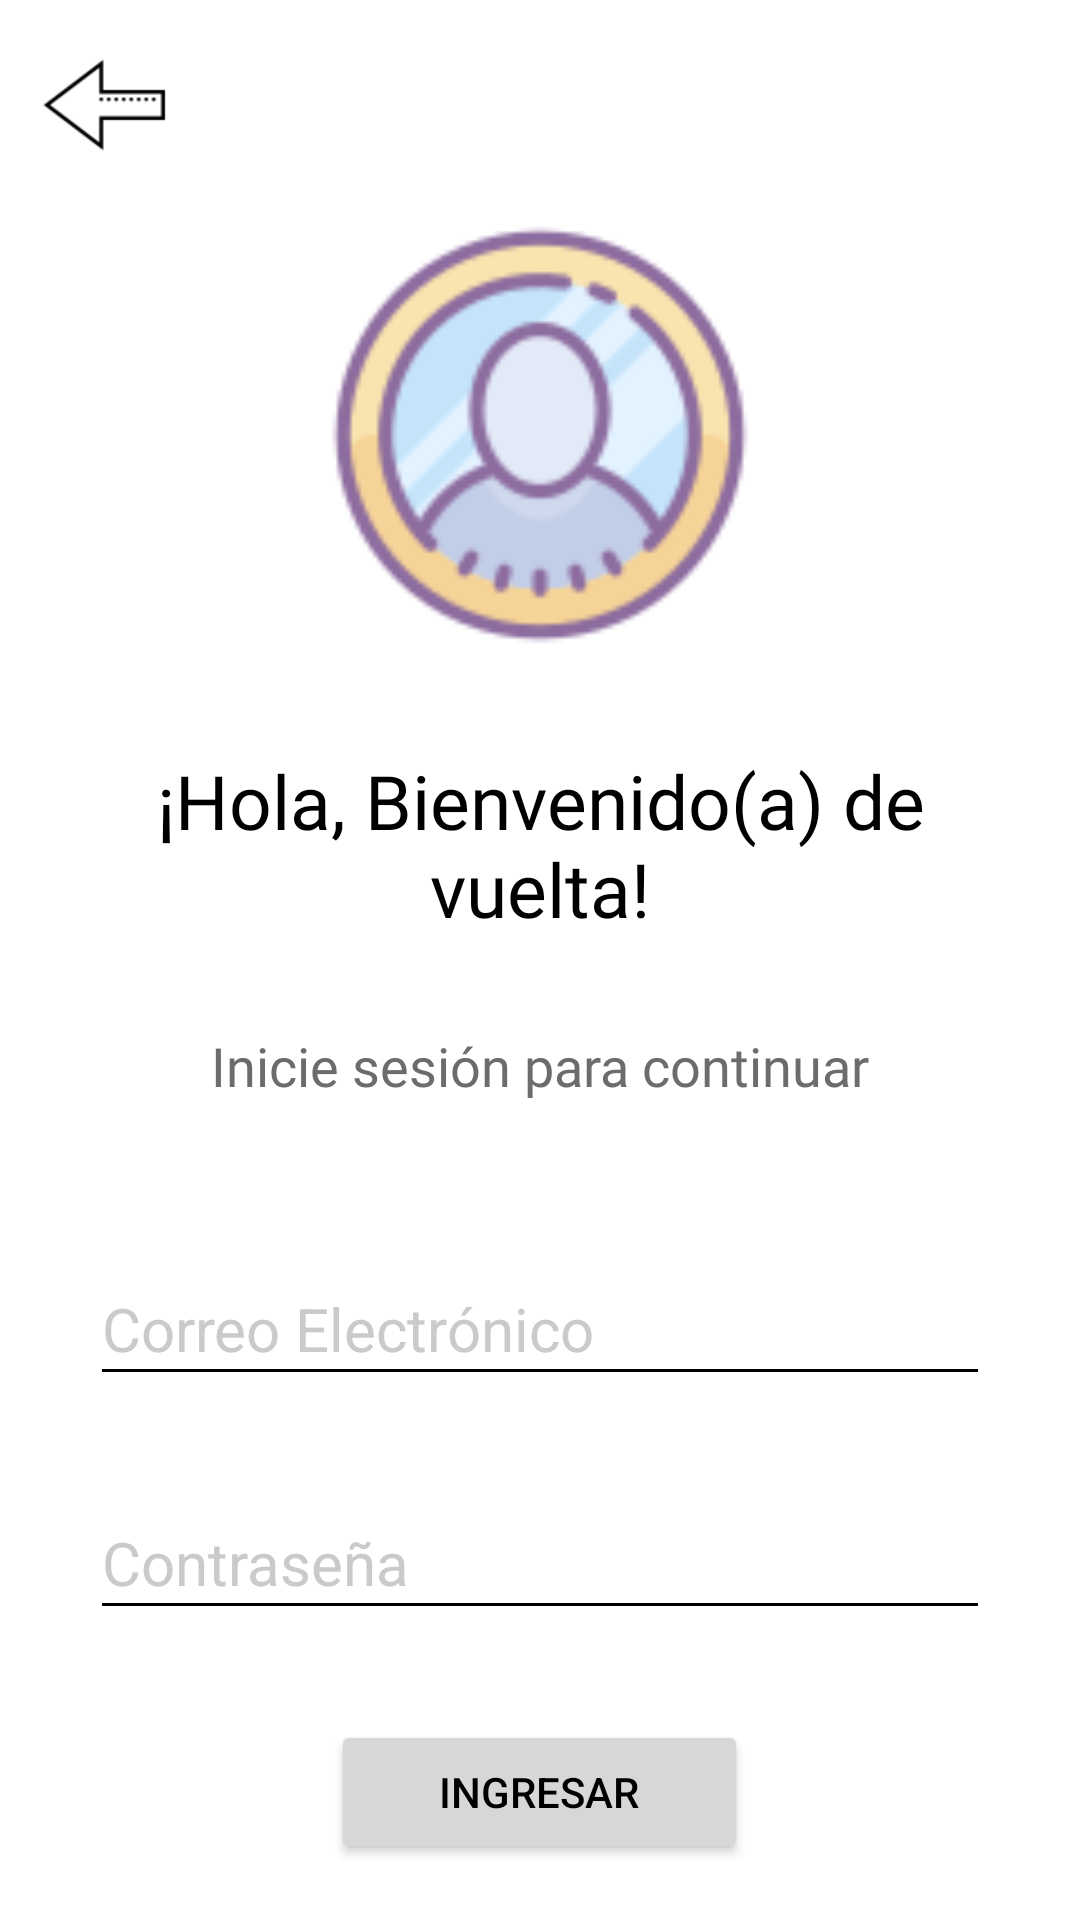

Where to tap for icons on this 1080x1920 app screen, as point (x, y):
atras: point (104, 105)
